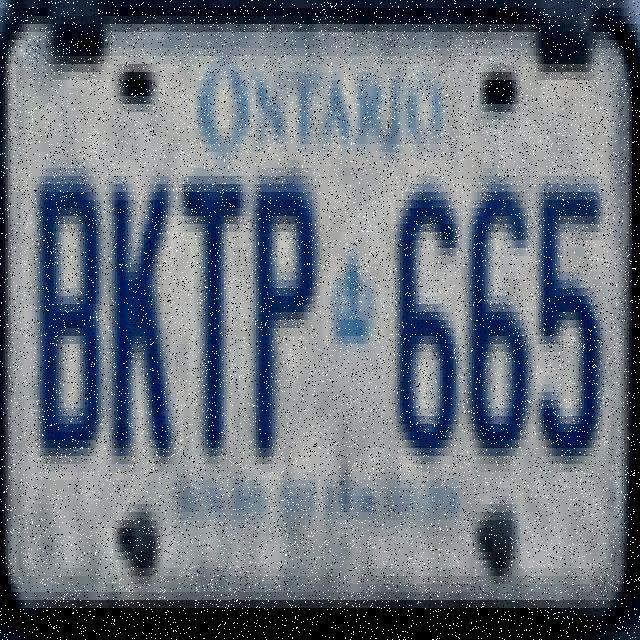LicensePlate: (5, 12, 632, 610)
